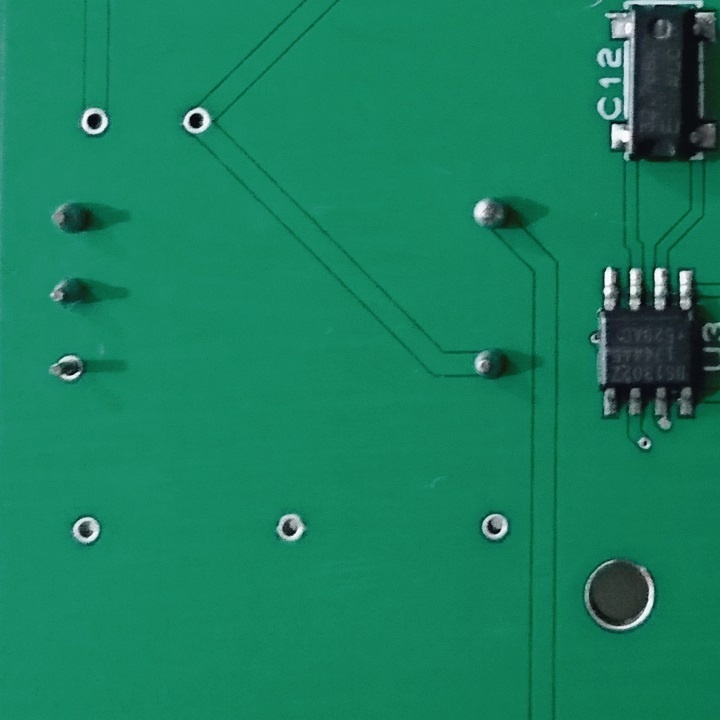F: (49, 345, 84, 386), (271, 511, 307, 547), (76, 106, 111, 139), (179, 105, 213, 138), (479, 510, 510, 545), (71, 512, 101, 548)
